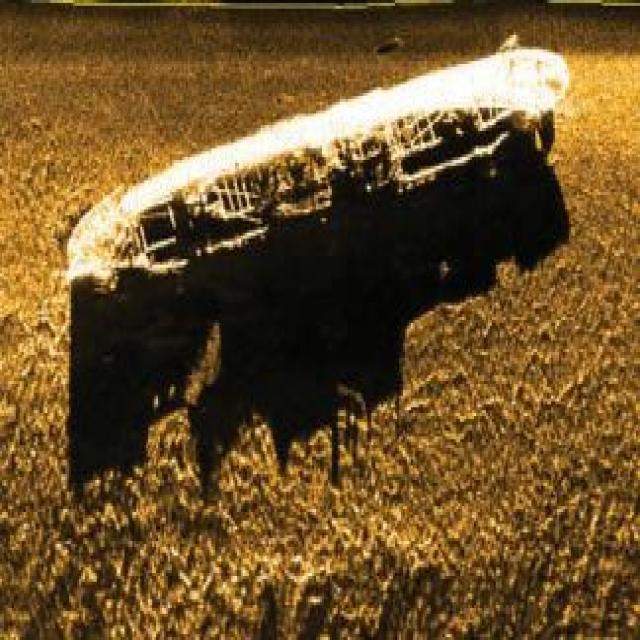ship: (63, 41, 571, 294)
